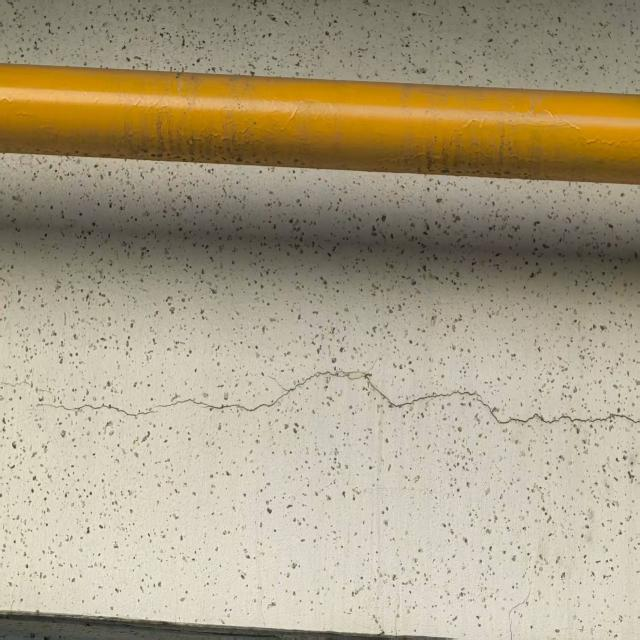crack: (0, 346, 637, 445)
